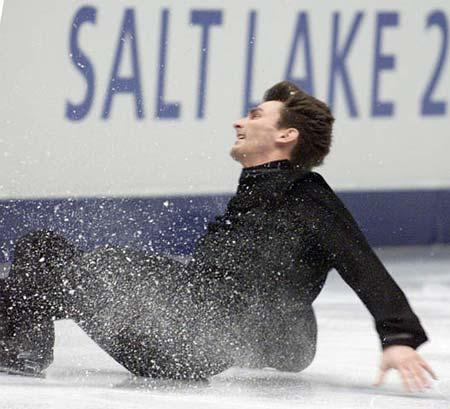fall: (0, 61, 446, 397)
